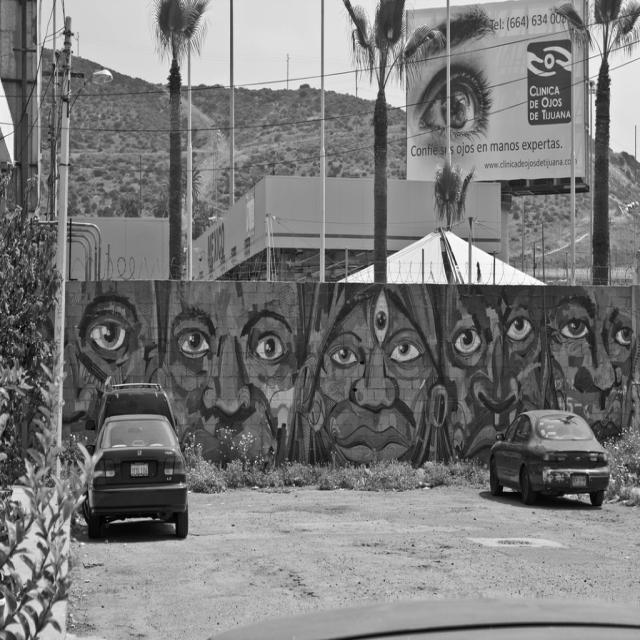car: (82, 413, 186, 537), (489, 408, 609, 505)
